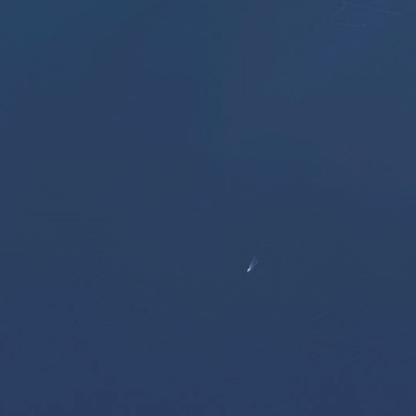ship: (242, 260, 258, 275)
